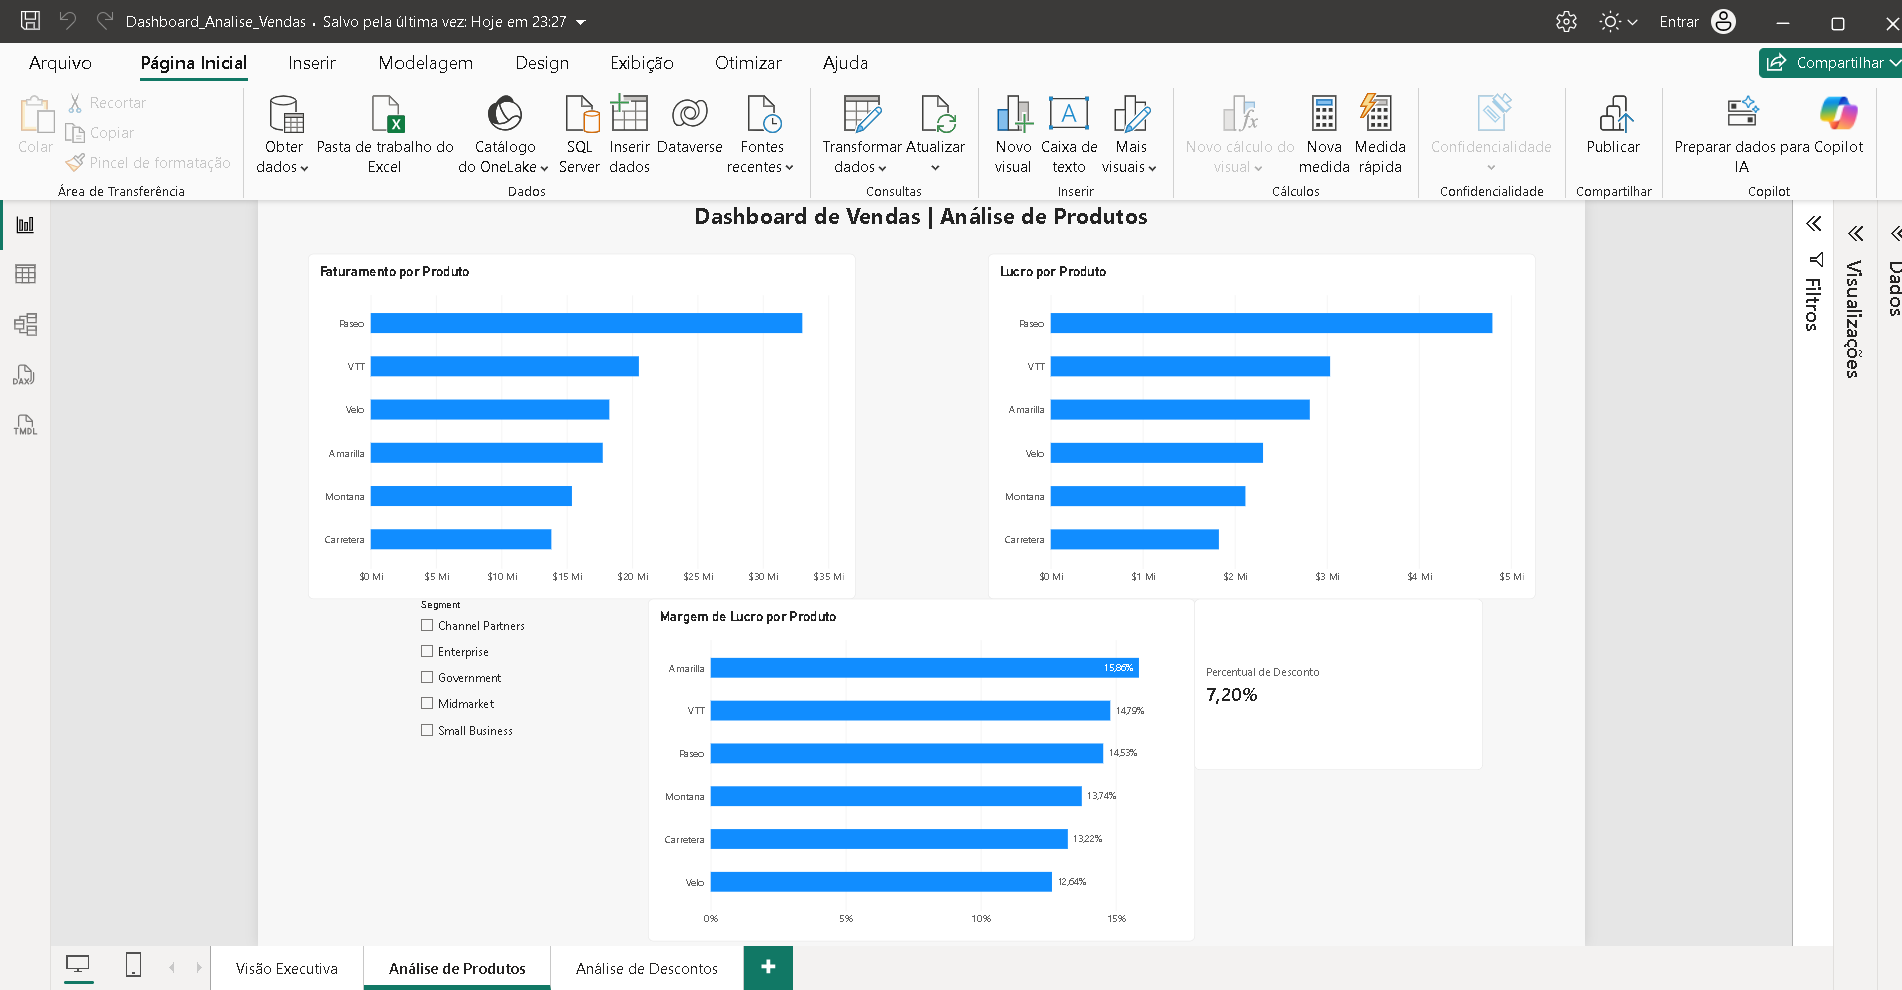

This screenshot's page, from the dashboard's own definition file:
{"tool":"powerbi","page":{"name":"Análise de Produtos","canvas":[1920,1080],"ordinal":1},"visuals":[{"type":"clusteredBarChart","title":"Faturamento por Produto","fields":{"Category":["F_Vendas.Product"],"Y":["F_Vendas.Faturamento Total"]},"box":[72,78,792.5,500],"z":0},{"type":"clusteredBarChart","title":"Lucro por Produto","fields":{"Category":["F_Vendas.Product"],"Y":["F_Vendas.Lucro Total"]},"box":[1056,78,792.5,500.2],"z":1000},{"type":"clusteredBarChart","title":"Margem de Lucro por Produto","fields":{"Category":["F_Vendas.Product"],"Y":["F_Vendas.Margem de Lucro"]},"box":[564,578,792,496],"z":2000},{"type":"slicer","fields":{"Values":["F_Vendas.Segment"]},"box":[228,578,335.5,327.3],"z":3000},{"type":"cardVisual","fields":{"Data":["F_Vendas.Percentual de Desconto"]},"box":[1356,578,418,248],"z":4000},{"type":"textbox","box":[0,0,1920,121.7],"z":4001}]}

Visuals, with their boxes on the page's 1920x1080 design canvas (x1, y1, x2, y2). These are canvas units, not pixel positions in the 1902x990 screenshot, which may show the page scaled, cropped or inside an application window:
"Faturamento por Produto" clusteredBarChart: left=72, top=78, right=864, bottom=578
"Lucro por Produto" clusteredBarChart: left=1056, top=78, right=1848, bottom=578
"Margem de Lucro por Produto" clusteredBarChart: left=564, top=578, right=1356, bottom=1074
slicer - F_Vendas.Segment: left=228, top=578, right=564, bottom=905
cardVisual - F_Vendas.Percentual de Desconto: left=1356, top=578, right=1774, bottom=826
textbox: left=0, top=0, right=1920, bottom=122
